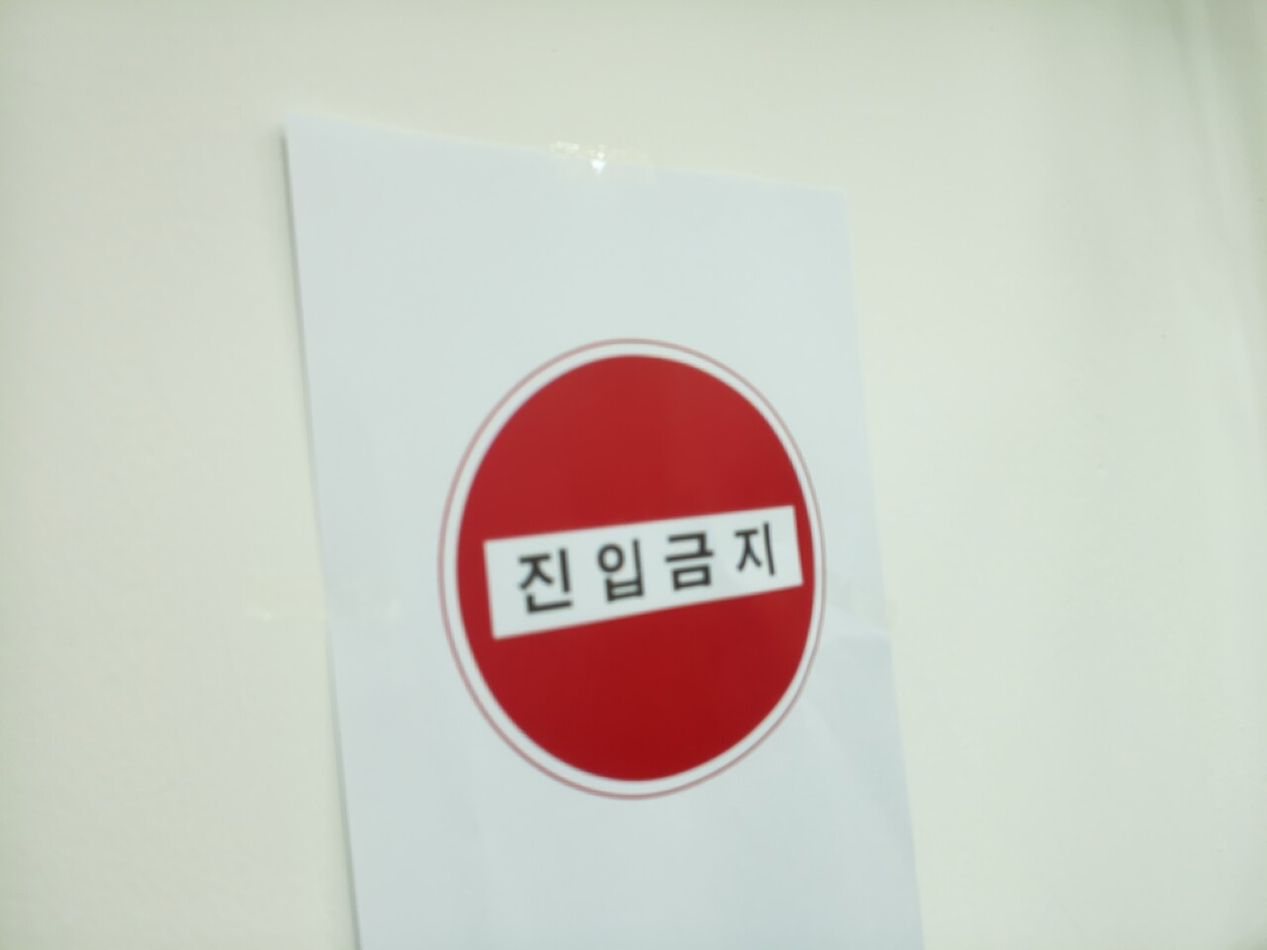do_not_enter: (445, 342, 826, 794)
